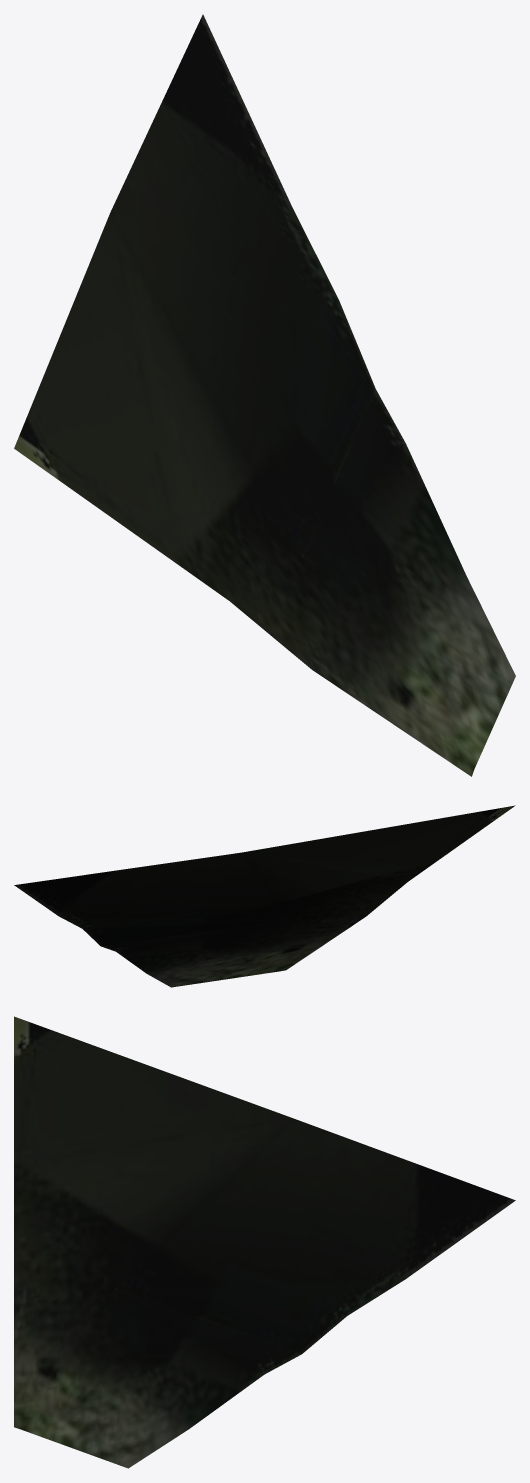
The picture shows the model from 3 angles, top to bottom: view 1: azimuth 30°, elevation 25°; view 2: azimuth 150°, elevation 25°; view 3: azimuth 270°, elevation 25°; orthographic projection. The views are drawn at different scales.
Bounding box in the file's own units: 6.3 × 4.46 × 7.44.
Materials: 1 (1 with a texture image).
